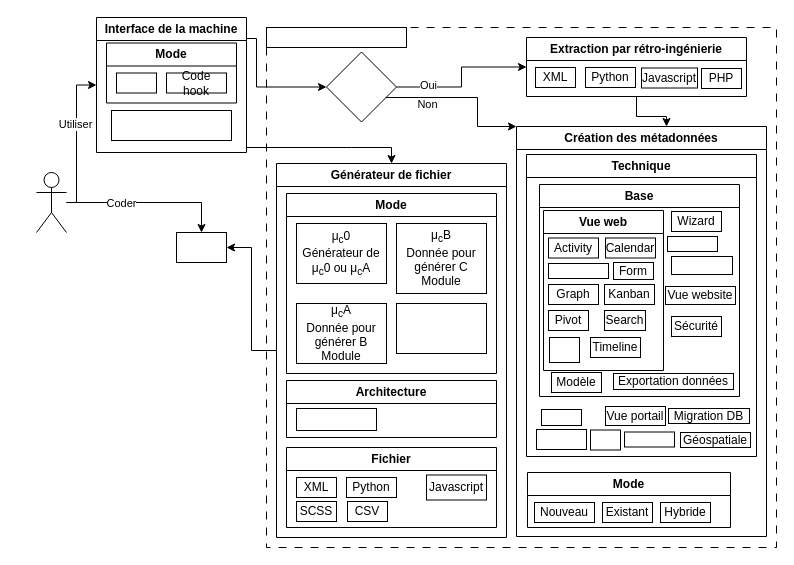
Some shapes in this 794 by 565 pixel diagram are drawn without their labels. The centre of each missing label's shape, as x and y in pixels:
C Module Code: the point at 441,328
Contrôleur: the point at 701,265
Cron: the point at 605,439
Diagram: the point at 578,270
Développeur: the point at 51,202
GUI: the point at 136,82
Hook: the point at 561,417
Héritage: the point at 692,244
Module Code: the point at 201,247
Module existe: the point at 361,86
Modèle de paramètre: the point at 171,125
MVC Odoo: the point at 336,419
Noyau de la machine: the point at 336,37
Snippet: the point at 561,439
Thème: the point at 649,439
Tree: the point at 564,349
